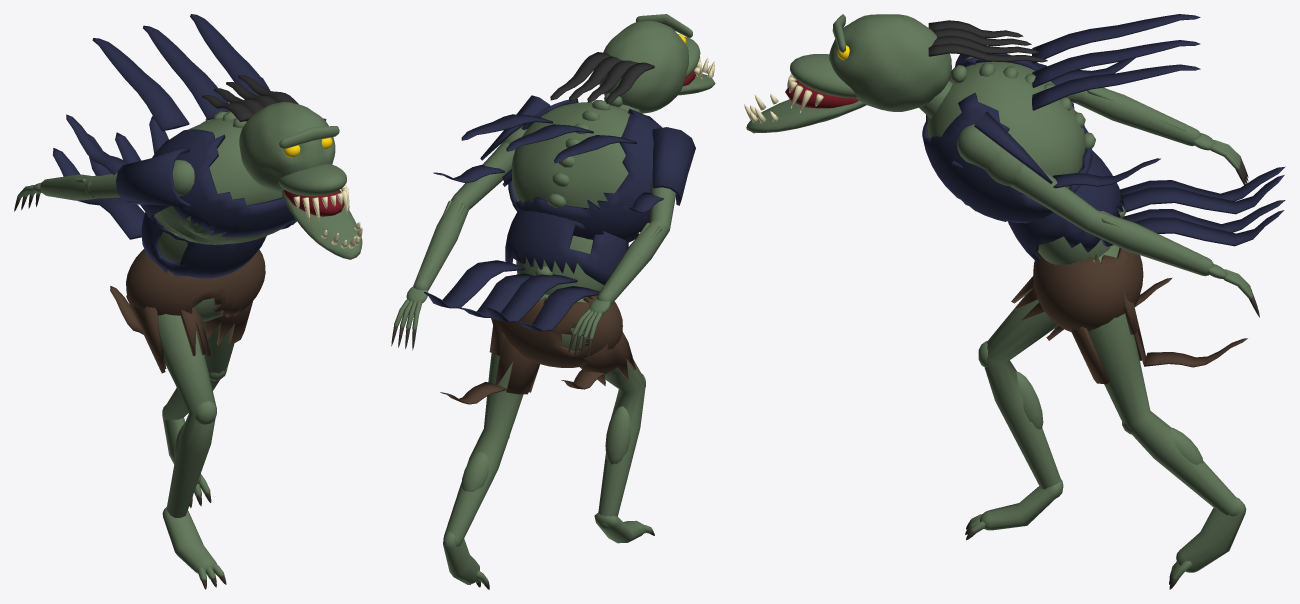
File: zombi_rapido_hd.glb
3 renders of one model, left to right at view 1: azimuth 30°, elevation 25°; view 2: azimuth 150°, elevation 25°; view 3: azimuth 270°, elevation 25°, orthographic. The views are drawn at different scales.
Parts seen in each view (by area): view 1: Torso, Head, RightLeg, RightArm, LeftLeg; view 2: Torso, Head, LeftLeg, RightLeg, RightArm, LeftArm; view 3: Torso, Head, LeftLeg, LeftArm, RightLeg, RightArm.
Boxes of the visible parts, bbox=[...] form: Torso: bbox=[52, 14, 296, 321]; Head: bbox=[202, 75, 362, 259]; RightLeg: bbox=[110, 286, 226, 589]; RightArm: bbox=[14, 114, 194, 211]; LeftLeg: bbox=[162, 301, 252, 507]; Torso: bbox=[424, 93, 661, 367]; Head: bbox=[550, 14, 715, 113]; LeftLeg: bbox=[440, 319, 539, 589]; RightLeg: bbox=[561, 331, 654, 543]; RightArm: bbox=[568, 127, 695, 358]; LeftArm: bbox=[391, 95, 550, 350]; Torso: bbox=[919, 14, 1285, 332]; Head: bbox=[744, 14, 1047, 133]; LeftLeg: bbox=[1071, 290, 1247, 589]; LeftArm: bbox=[951, 111, 1259, 317]; RightLeg: bbox=[965, 276, 1172, 540]; RightArm: bbox=[955, 53, 1248, 185].
Bounding box in the file's own units: 1.71 × 3.71 × 3.34.
1 material, 1 textured.
